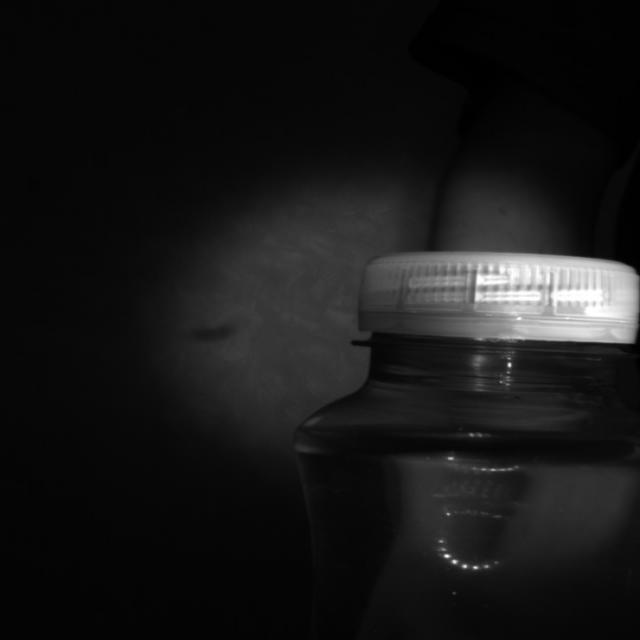Good: (351, 245, 640, 348)
